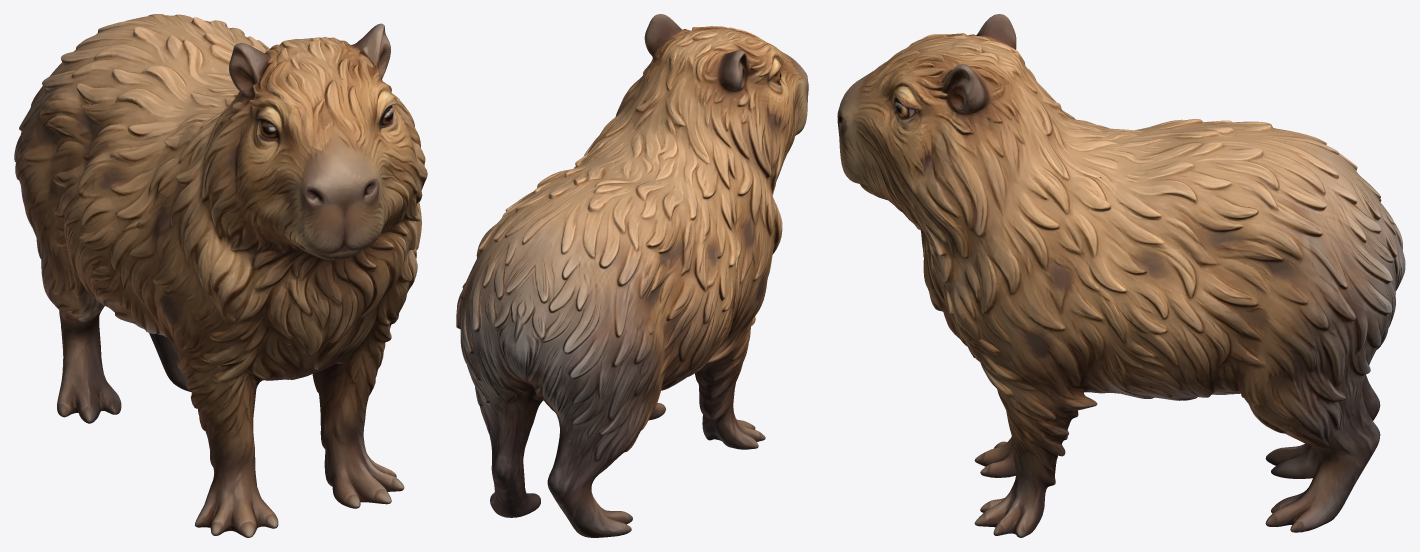
File: Capybara.glb
3 views of the same model, side by side, from view 1: azimuth 30°, elevation 25°; view 2: azimuth 150°, elevation 25°; view 3: azimuth 270°, elevation 25° (orthographic). The views are drawn at different scales.
Parts seen in each view (by area): view 1: output_unwrapped; view 2: output_unwrapped; view 3: output_unwrapped.
Boxes of the visible parts, box(x1,y1,x2,y2) form: output_unwrapped: box(14, 14, 427, 537); output_unwrapped: box(456, 14, 808, 537); output_unwrapped: box(837, 14, 1405, 537).
Size of the model in its own units: 0.9917 by 1.67 by 1.9.
Materials: 1 (1 with a texture image).
